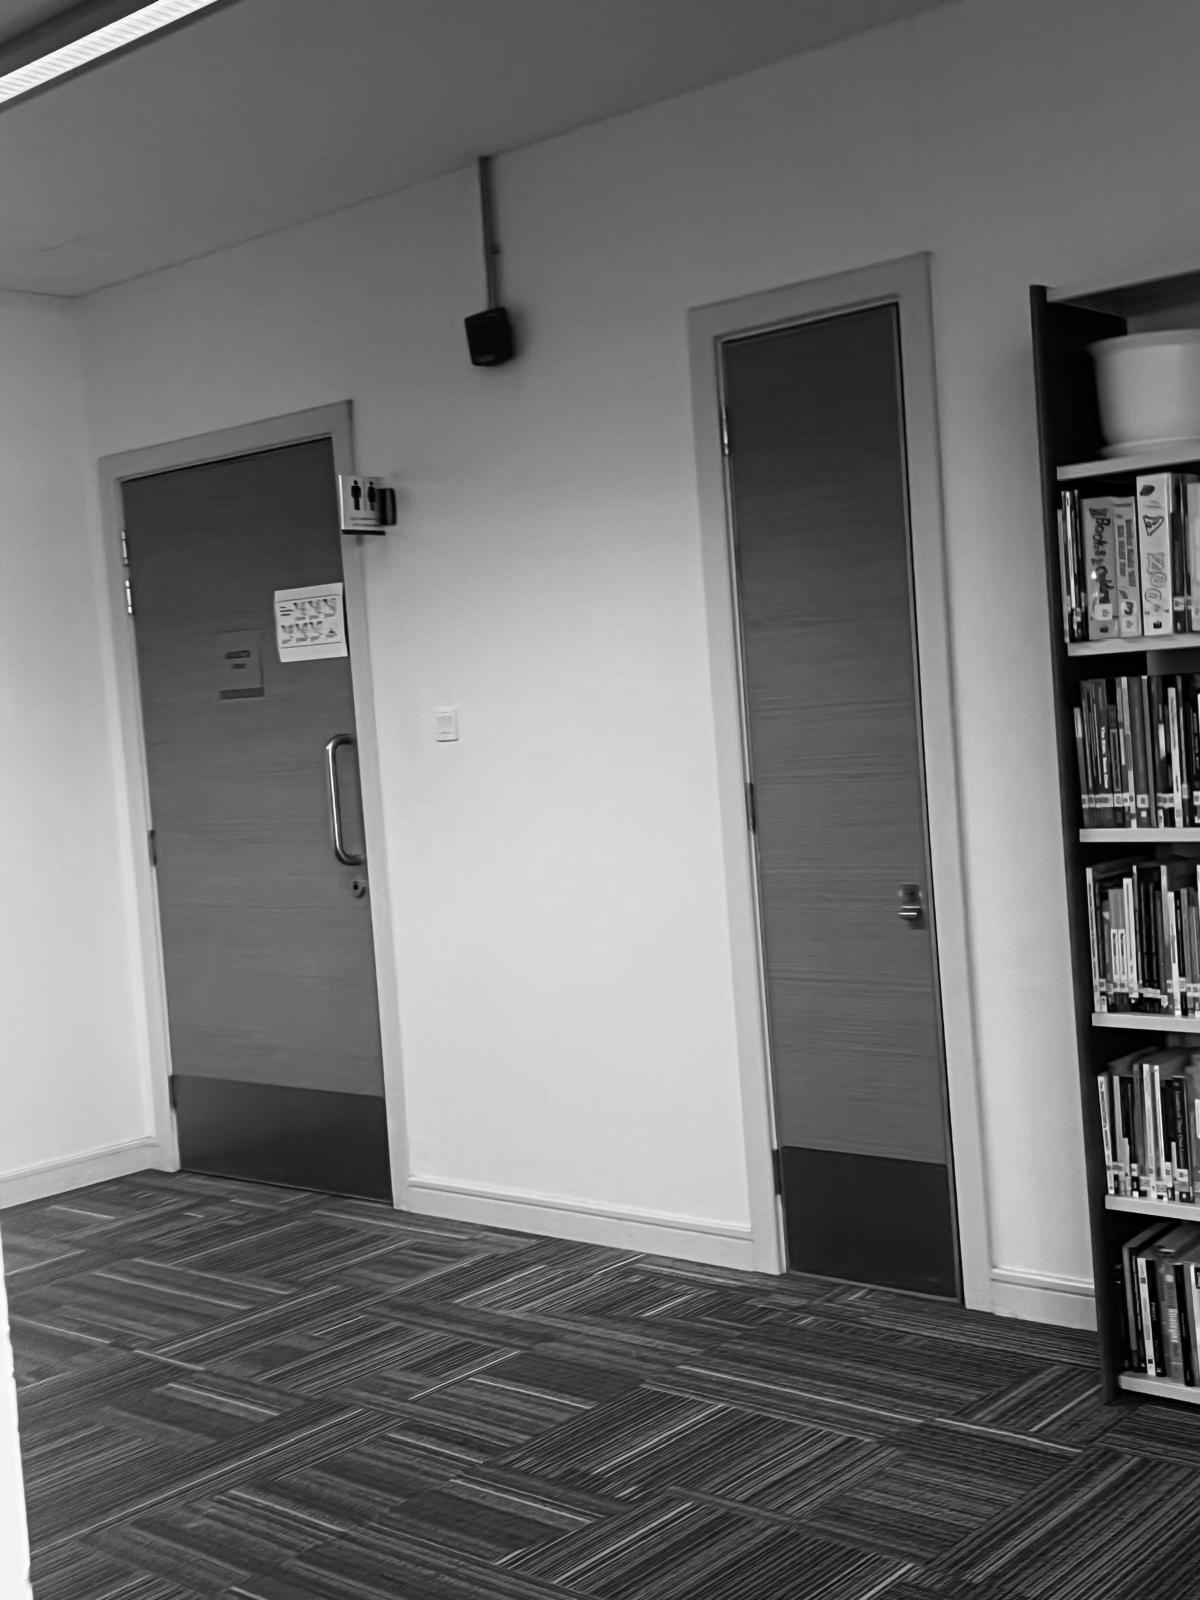Wall: (0, 0, 1082, 1220)
